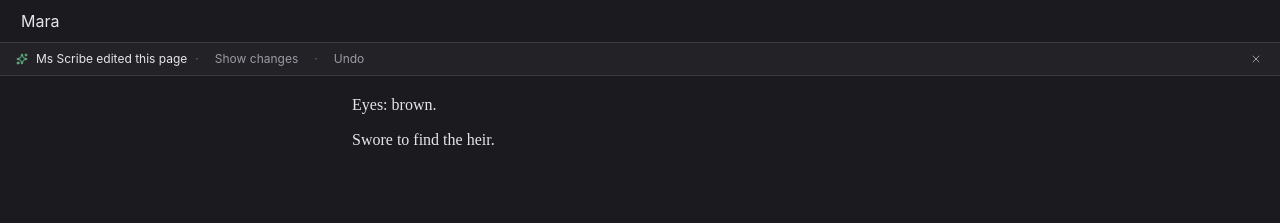
Test: Ms Scribe’s edit on a page › shows the bar on the open page, highlights the changed line, and Undo restores the page
Expected: the field named "Note page" is shown, [352, 96, 495, 148]
Expected: the message with test id "notebook-ai-edit" shows "Ms Scribe edited this page", [36, 51, 187, 66]
Click the button "Show changes" at (256, 59), box [207, 49, 306, 69]
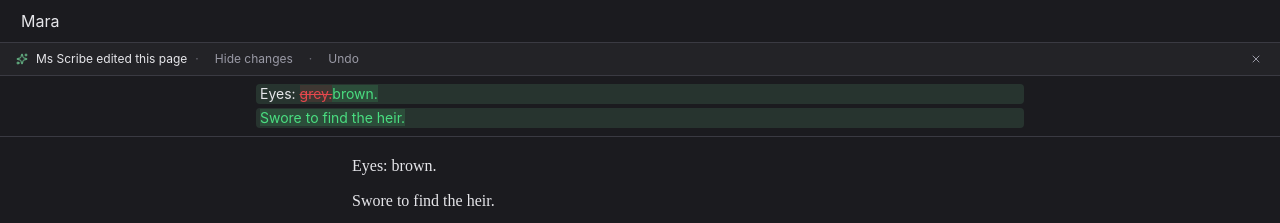
Result: the text "grey." is shown at [300, 85, 332, 102]
Click the button "Undo" at (344, 59), box [320, 49, 367, 69]
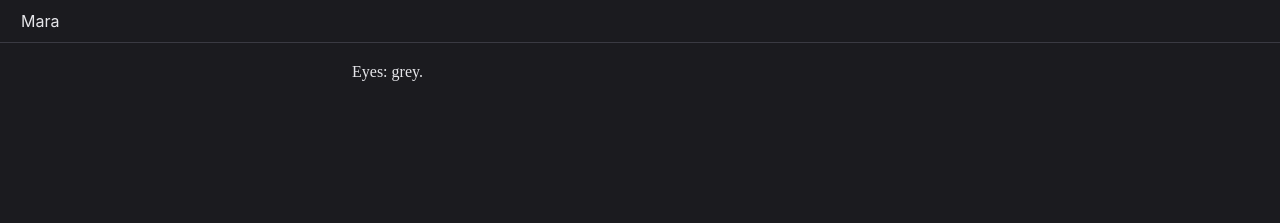
Result: the message with test id "notebook-ai-edit" is gone
Result: the text box labelled "Eyes: grey." is shown at [352, 63, 423, 80]
